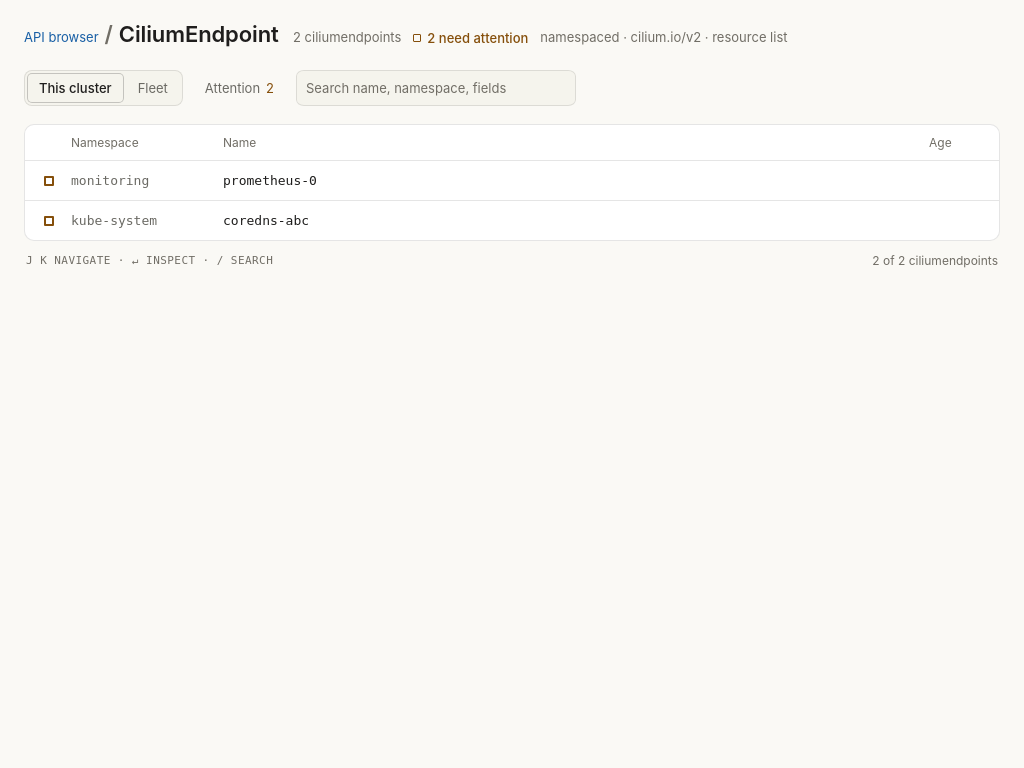
Test: InstanceList › the open instance renders as a side panel - the list never leaves the screen
Click the text "coredns-abc". click: (266, 220)
box: [223,212,309,230]
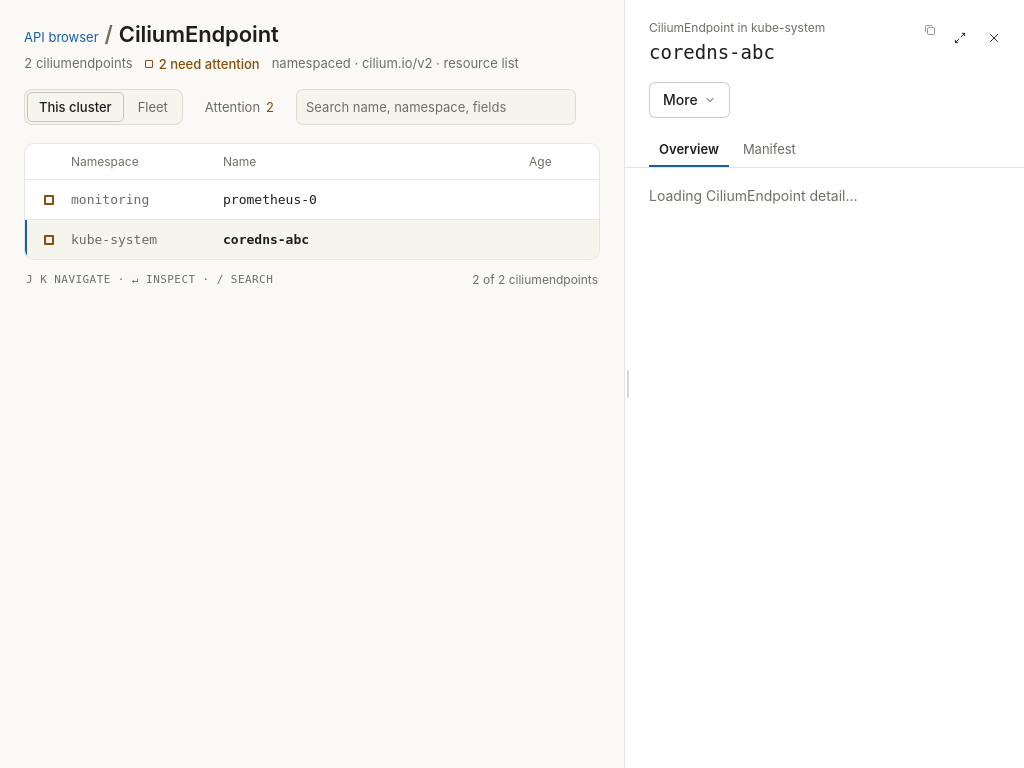
Expected: the row with test id "instance-list-header" is shown, [25,144,599,180]
Now the element with test id "instance-detail-panel" is shown, box [625,20,1023,204]
Note: Esc closes the panel, list stays
Press Escape
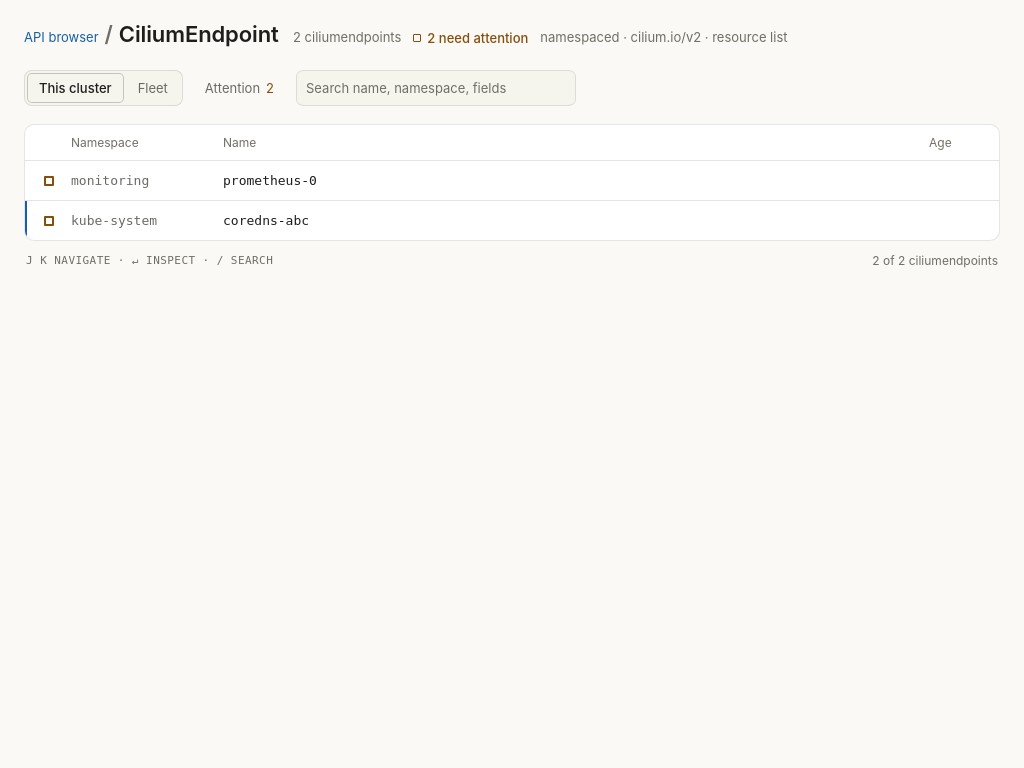
Expected: the row with test id "instance-list-header" is shown, [25,125,999,161]
Now the element with test id "instance-detail-panel" is gone
